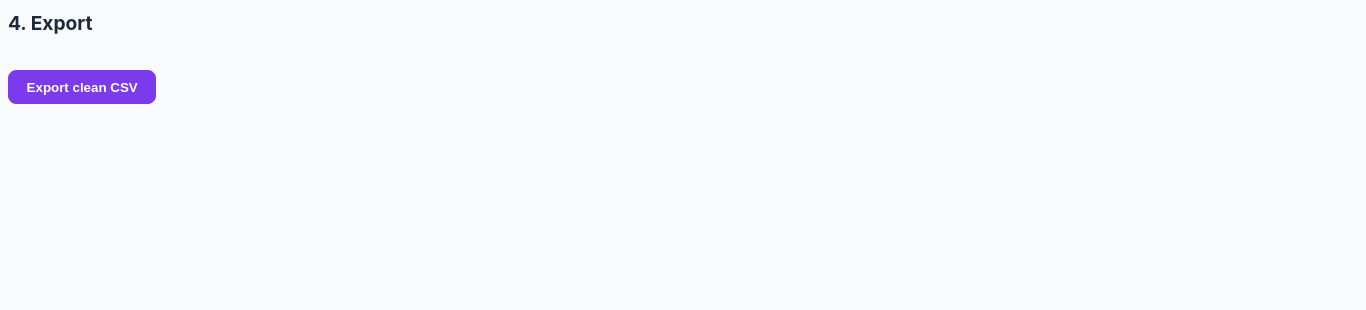
Test case: ExportPanel › offers to skip invalid rows, then downloads and reports the counts
Click the button "Export clean CSV" at [82, 87], box [8, 70, 156, 104]
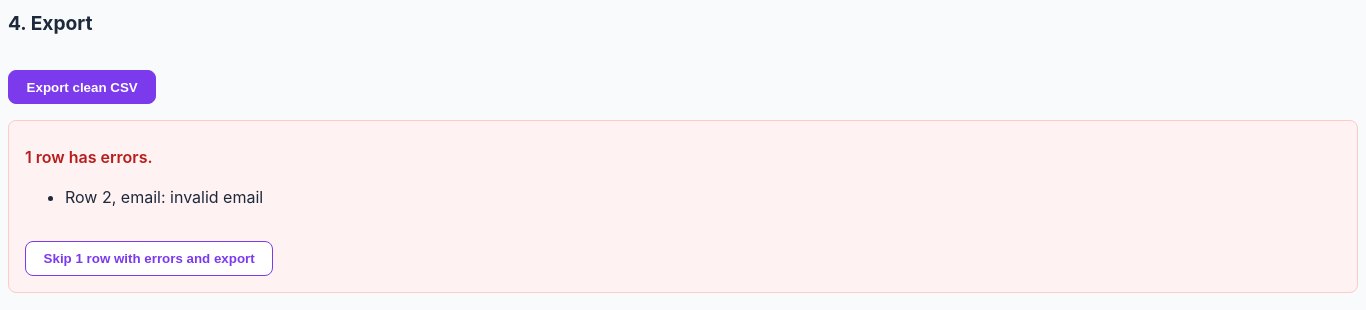
Expected: the message shows "1 row has errors.", [25, 147, 152, 167]
Expected: the message shows "Row 2, email: invalid email", [8, 120, 1358, 293]
Click the button "Skip 1 row with errors and export" at [149, 259], box [25, 241, 273, 276]
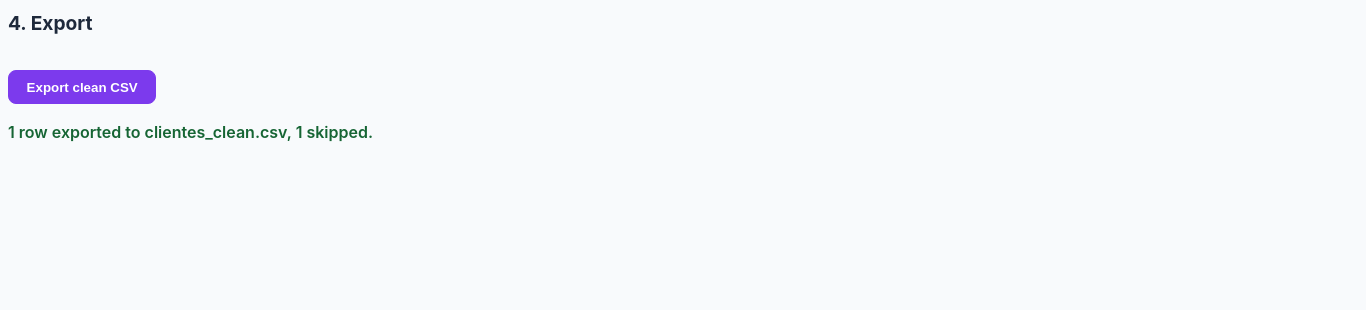
Expected: the text "1 row exported to clientes_clean.csv, 1 skipped." is shown, [8, 122, 373, 142]
